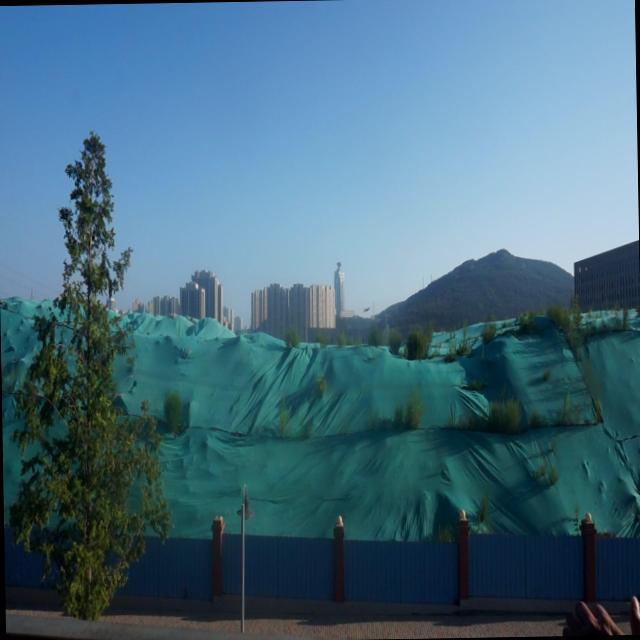drone: (362, 300, 371, 312)
